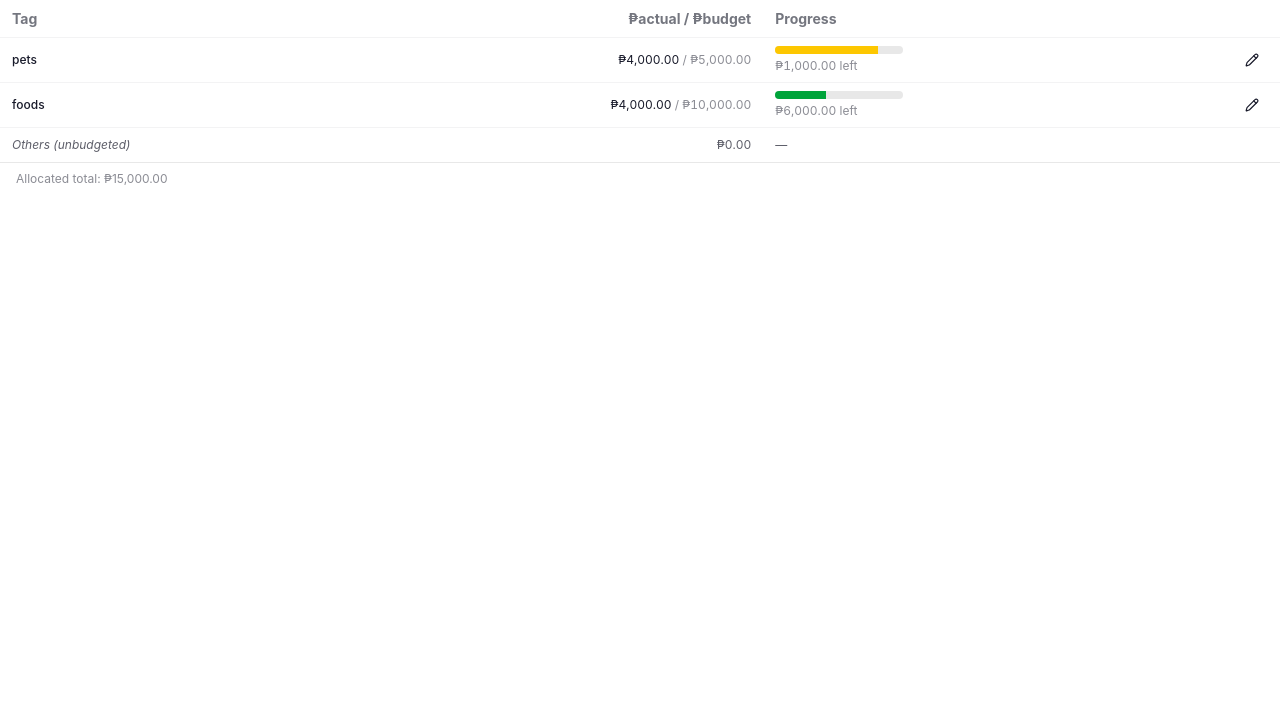
Test: BudgetTableView › clicking the Edit pencil does not also drill (propagation stopped)
The width and height of the screenshot is (1280, 720).
Click the button named "Edit foods": (1252, 105) [1236,93,1268,117]
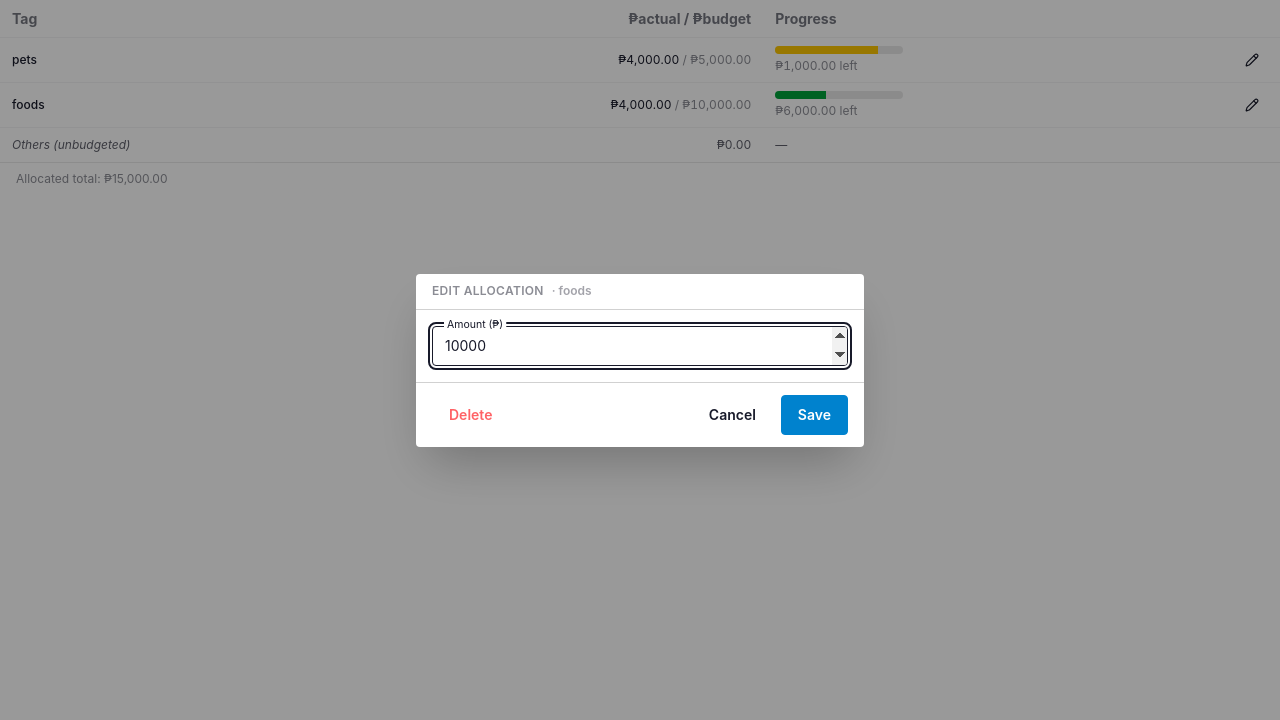
Expected: the dialog is shown
